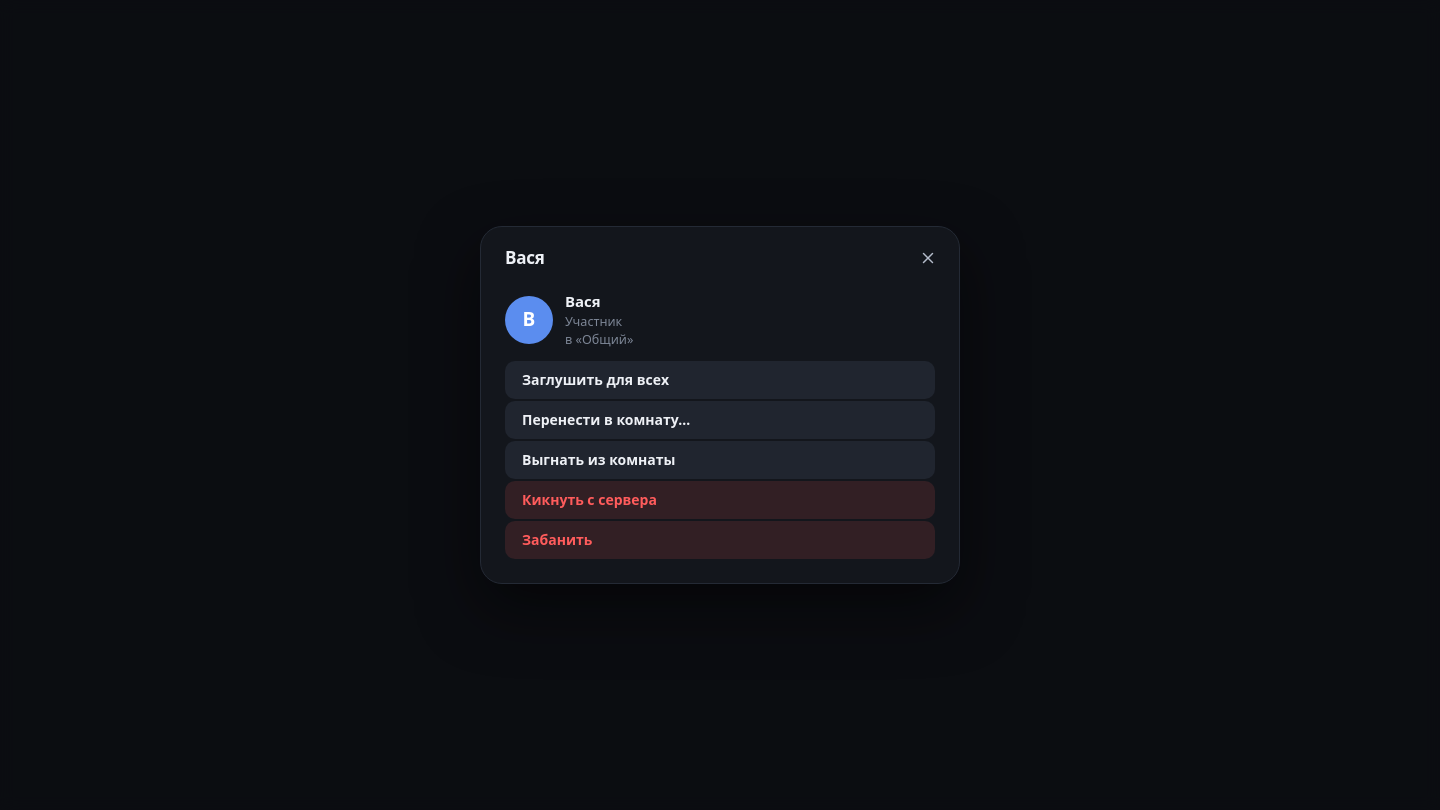
Test: server mute › moving someone offers the other channels
Later steps or results of the test are not shown.
Click the button "Перенести в комнату…" at (606, 419), box [505,401,935,439]
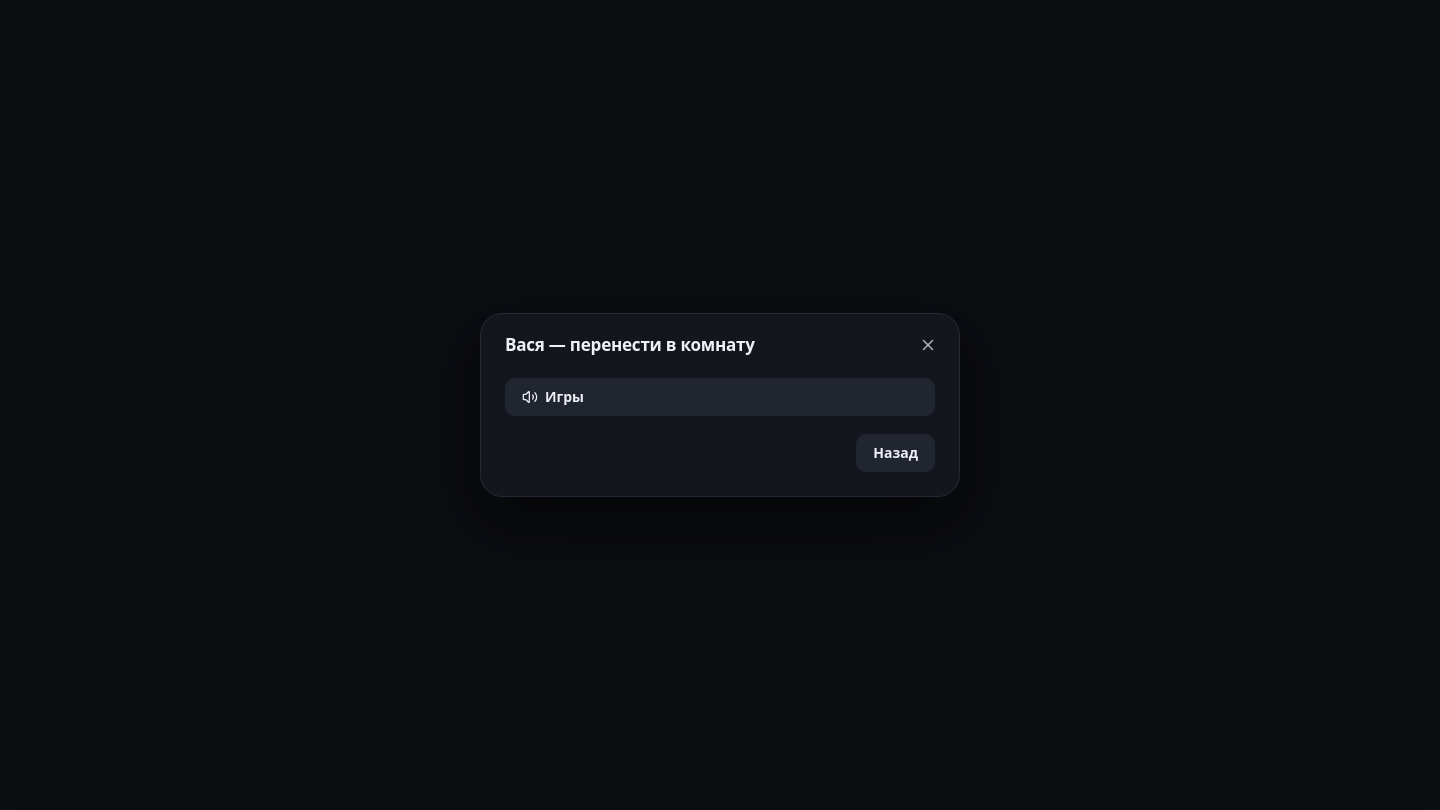
Expected: the text "Общий" is gone
